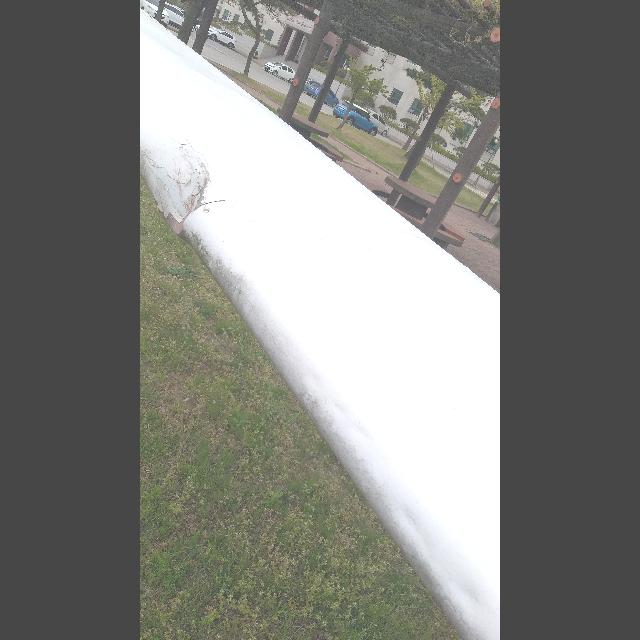dent: (145, 135, 213, 231)
